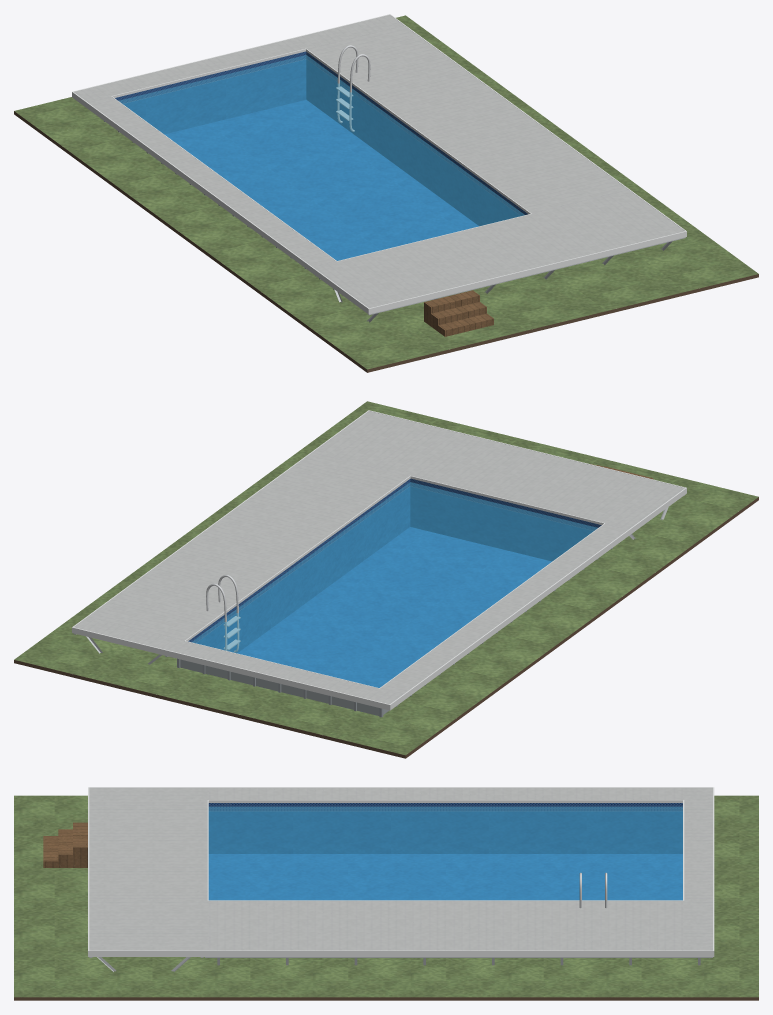
Rendered from kayak-pool-16x32-gray-endside-rec-nofence.16cb48cb2f.glb.
The picture shows the model from 3 angles, top to bottom: view 1: azimuth 30°, elevation 25°; view 2: azimuth 150°, elevation 25°; view 3: azimuth 270°, elevation 25°; orthographic projection. The views are drawn at different scales.
Parts seen in each view (by area): view 1: deck, water, ground, liner_floor, liner_wall, fascia, soil, steps, steel, stud; view 2: deck, water, ground, liner_floor, liner_wall, fascia, soil, wall, steel; view 3: deck, ground, water, liner_wall, liner_floor, fascia, soil, steps, stud.
Boxes of the visible parts, box(x1,y1,x2,y2) form: deck: box(74, 15, 684, 308); water: box(119, 55, 524, 260); ground: box(14, 15, 758, 369); liner_floor: box(164, 100, 478, 260); liner_wall: box(115, 51, 527, 226); fascia: box(72, 14, 686, 314); soil: box(14, 111, 758, 372); steps: box(424, 290, 493, 336); steel: box(336, 45, 370, 131); stud: box(315, 237, 685, 322); deck: box(74, 411, 684, 704); water: box(192, 482, 597, 687); ground: box(14, 401, 758, 755); liner_floor: box(237, 527, 551, 687); liner_wall: box(188, 478, 601, 653); fascia: box(72, 410, 686, 710); soil: box(14, 497, 758, 758); wall: box(180, 659, 389, 715); steel: box(206, 574, 240, 652); deck: box(89, 788, 712, 950); ground: box(14, 795, 758, 997); water: box(208, 806, 682, 900); liner_wall: box(208, 803, 682, 853); liner_floor: box(208, 854, 682, 900); fascia: box(88, 787, 714, 956); soil: box(14, 997, 758, 1000); steps: box(43, 822, 87, 867); stud: box(89, 957, 712, 971).
Size of the model in its own units: 9.75 by 1.9 by 15.23.
12 materials, 5 textured.
